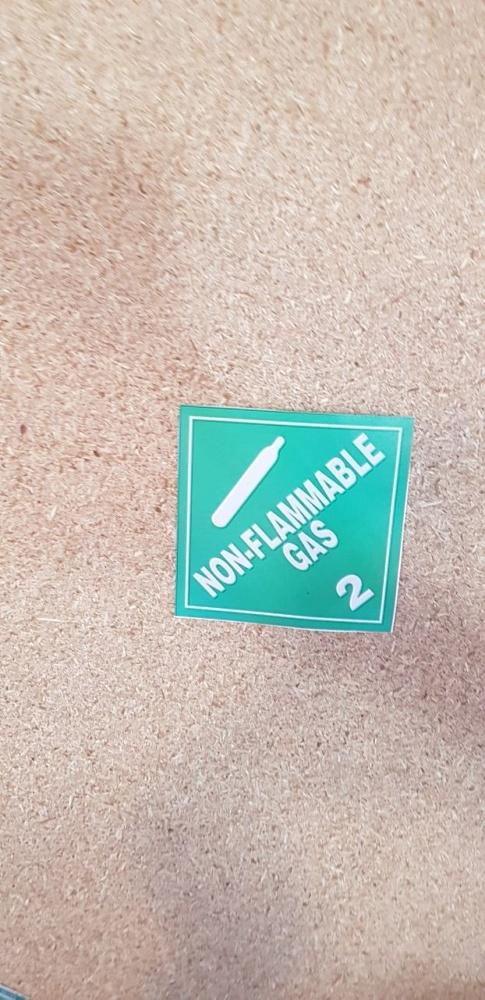non-flammable-gas: (173, 403, 417, 632)
